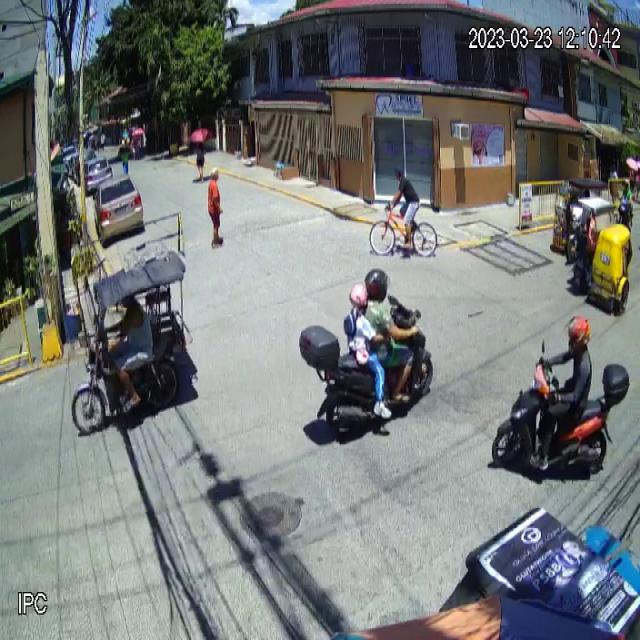Motorcycle: (298, 293, 434, 442), (491, 336, 630, 478)
Tricycle: (70, 250, 194, 434)
